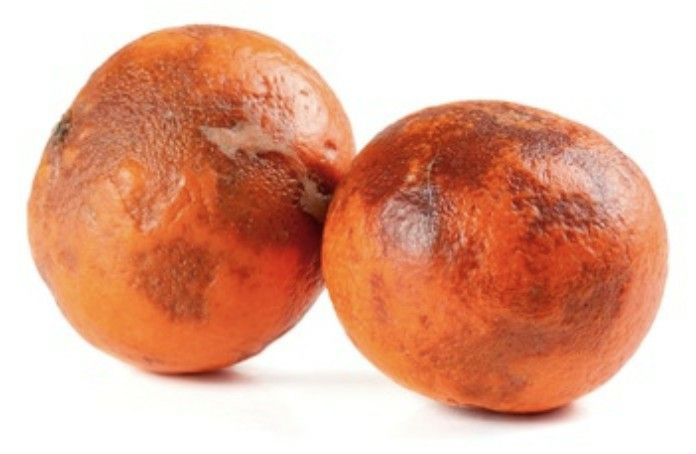rotten_orange: (28, 28, 348, 375), (328, 102, 670, 412)
